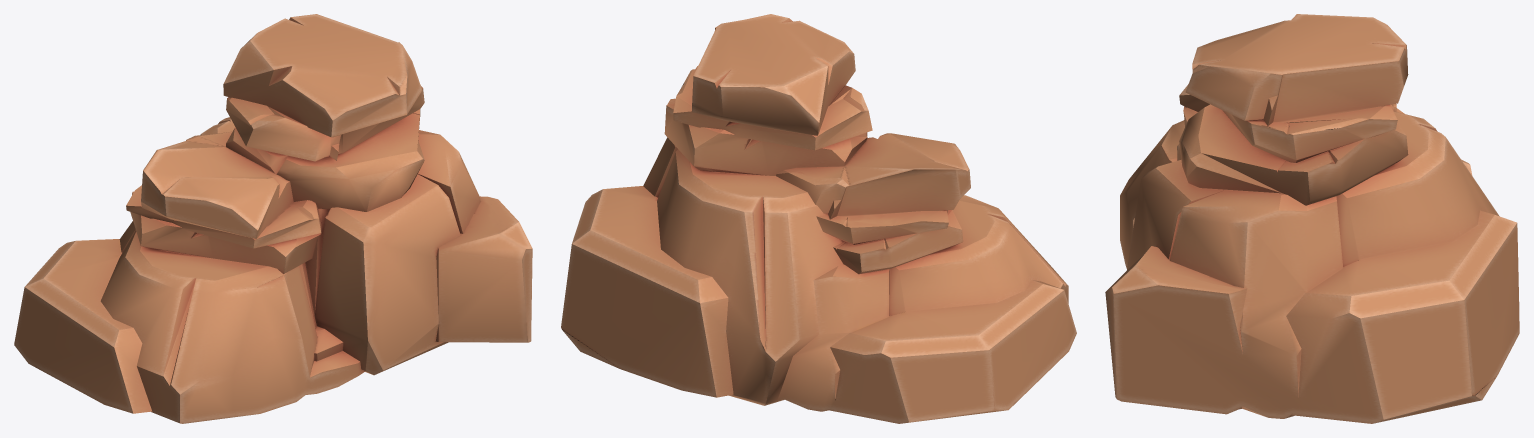
Rendered from desert_monolith_03.glb.
3 renders of one model, left to right at view 1: azimuth 30°, elevation 25°; view 2: azimuth 150°, elevation 25°; view 3: azimuth 270°, elevation 25°, orthographic. The views are drawn at different scales.
Parts seen in each view (by area): view 1: Rock_3_Rock_3_0; view 2: Rock_3_Rock_3_0; view 3: Rock_3_Rock_3_0.
Boxes of the visible parts, x1,y1,x2,y2 form: Rock_3_Rock_3_0: (14,14,532,423); Rock_3_Rock_3_0: (561,14,1076,423); Rock_3_Rock_3_0: (1105,14,1519,423).
Bounding box in the file's own units: 5.52 × 3.4 × 4.1.
1 material, 1 textured.
